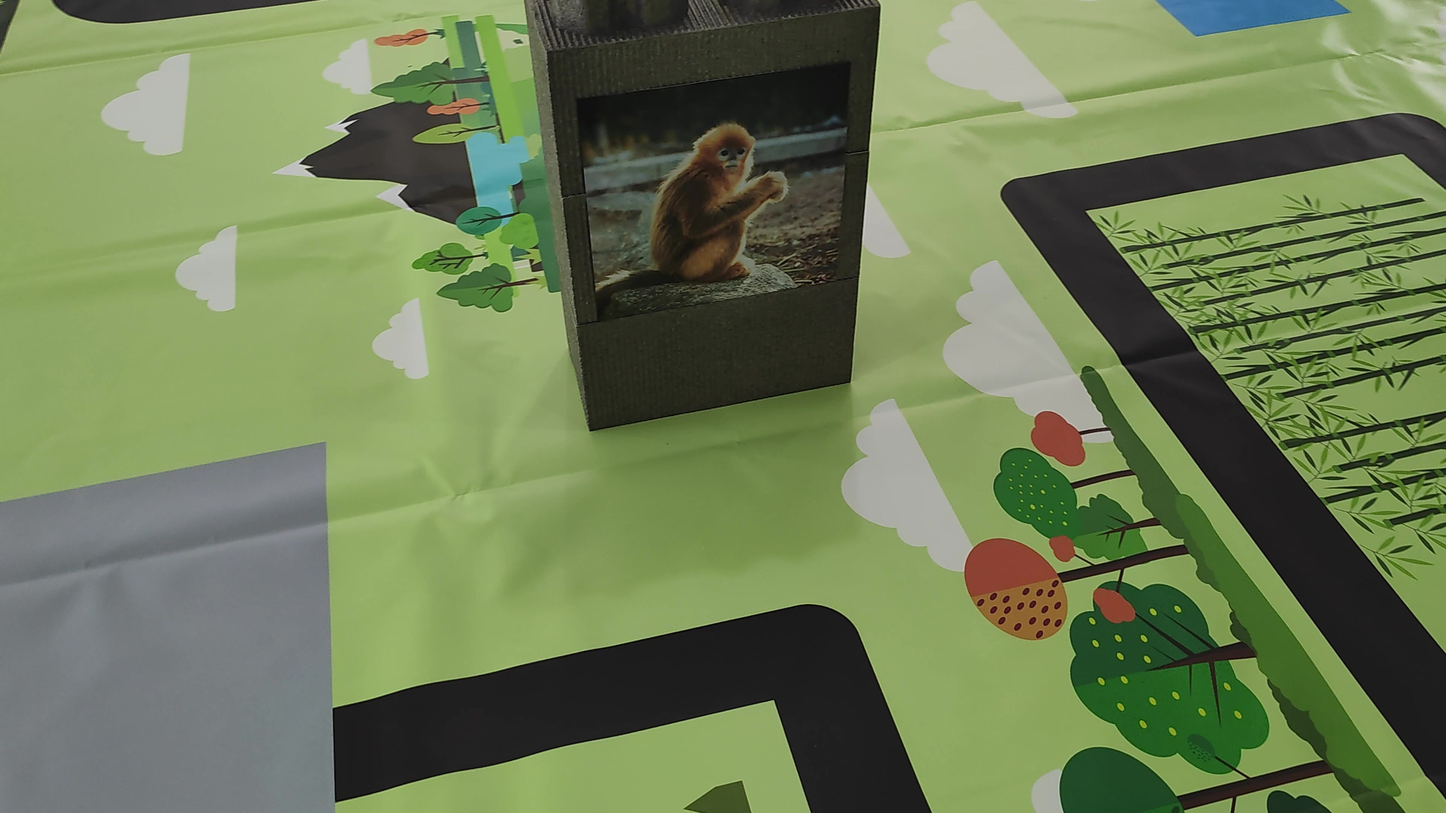monkey: (589, 111, 824, 325)
